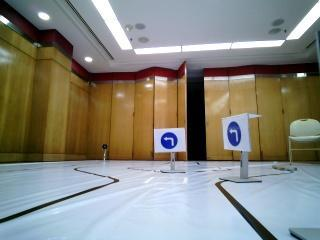left: (225, 119, 247, 148), (156, 129, 184, 151)
